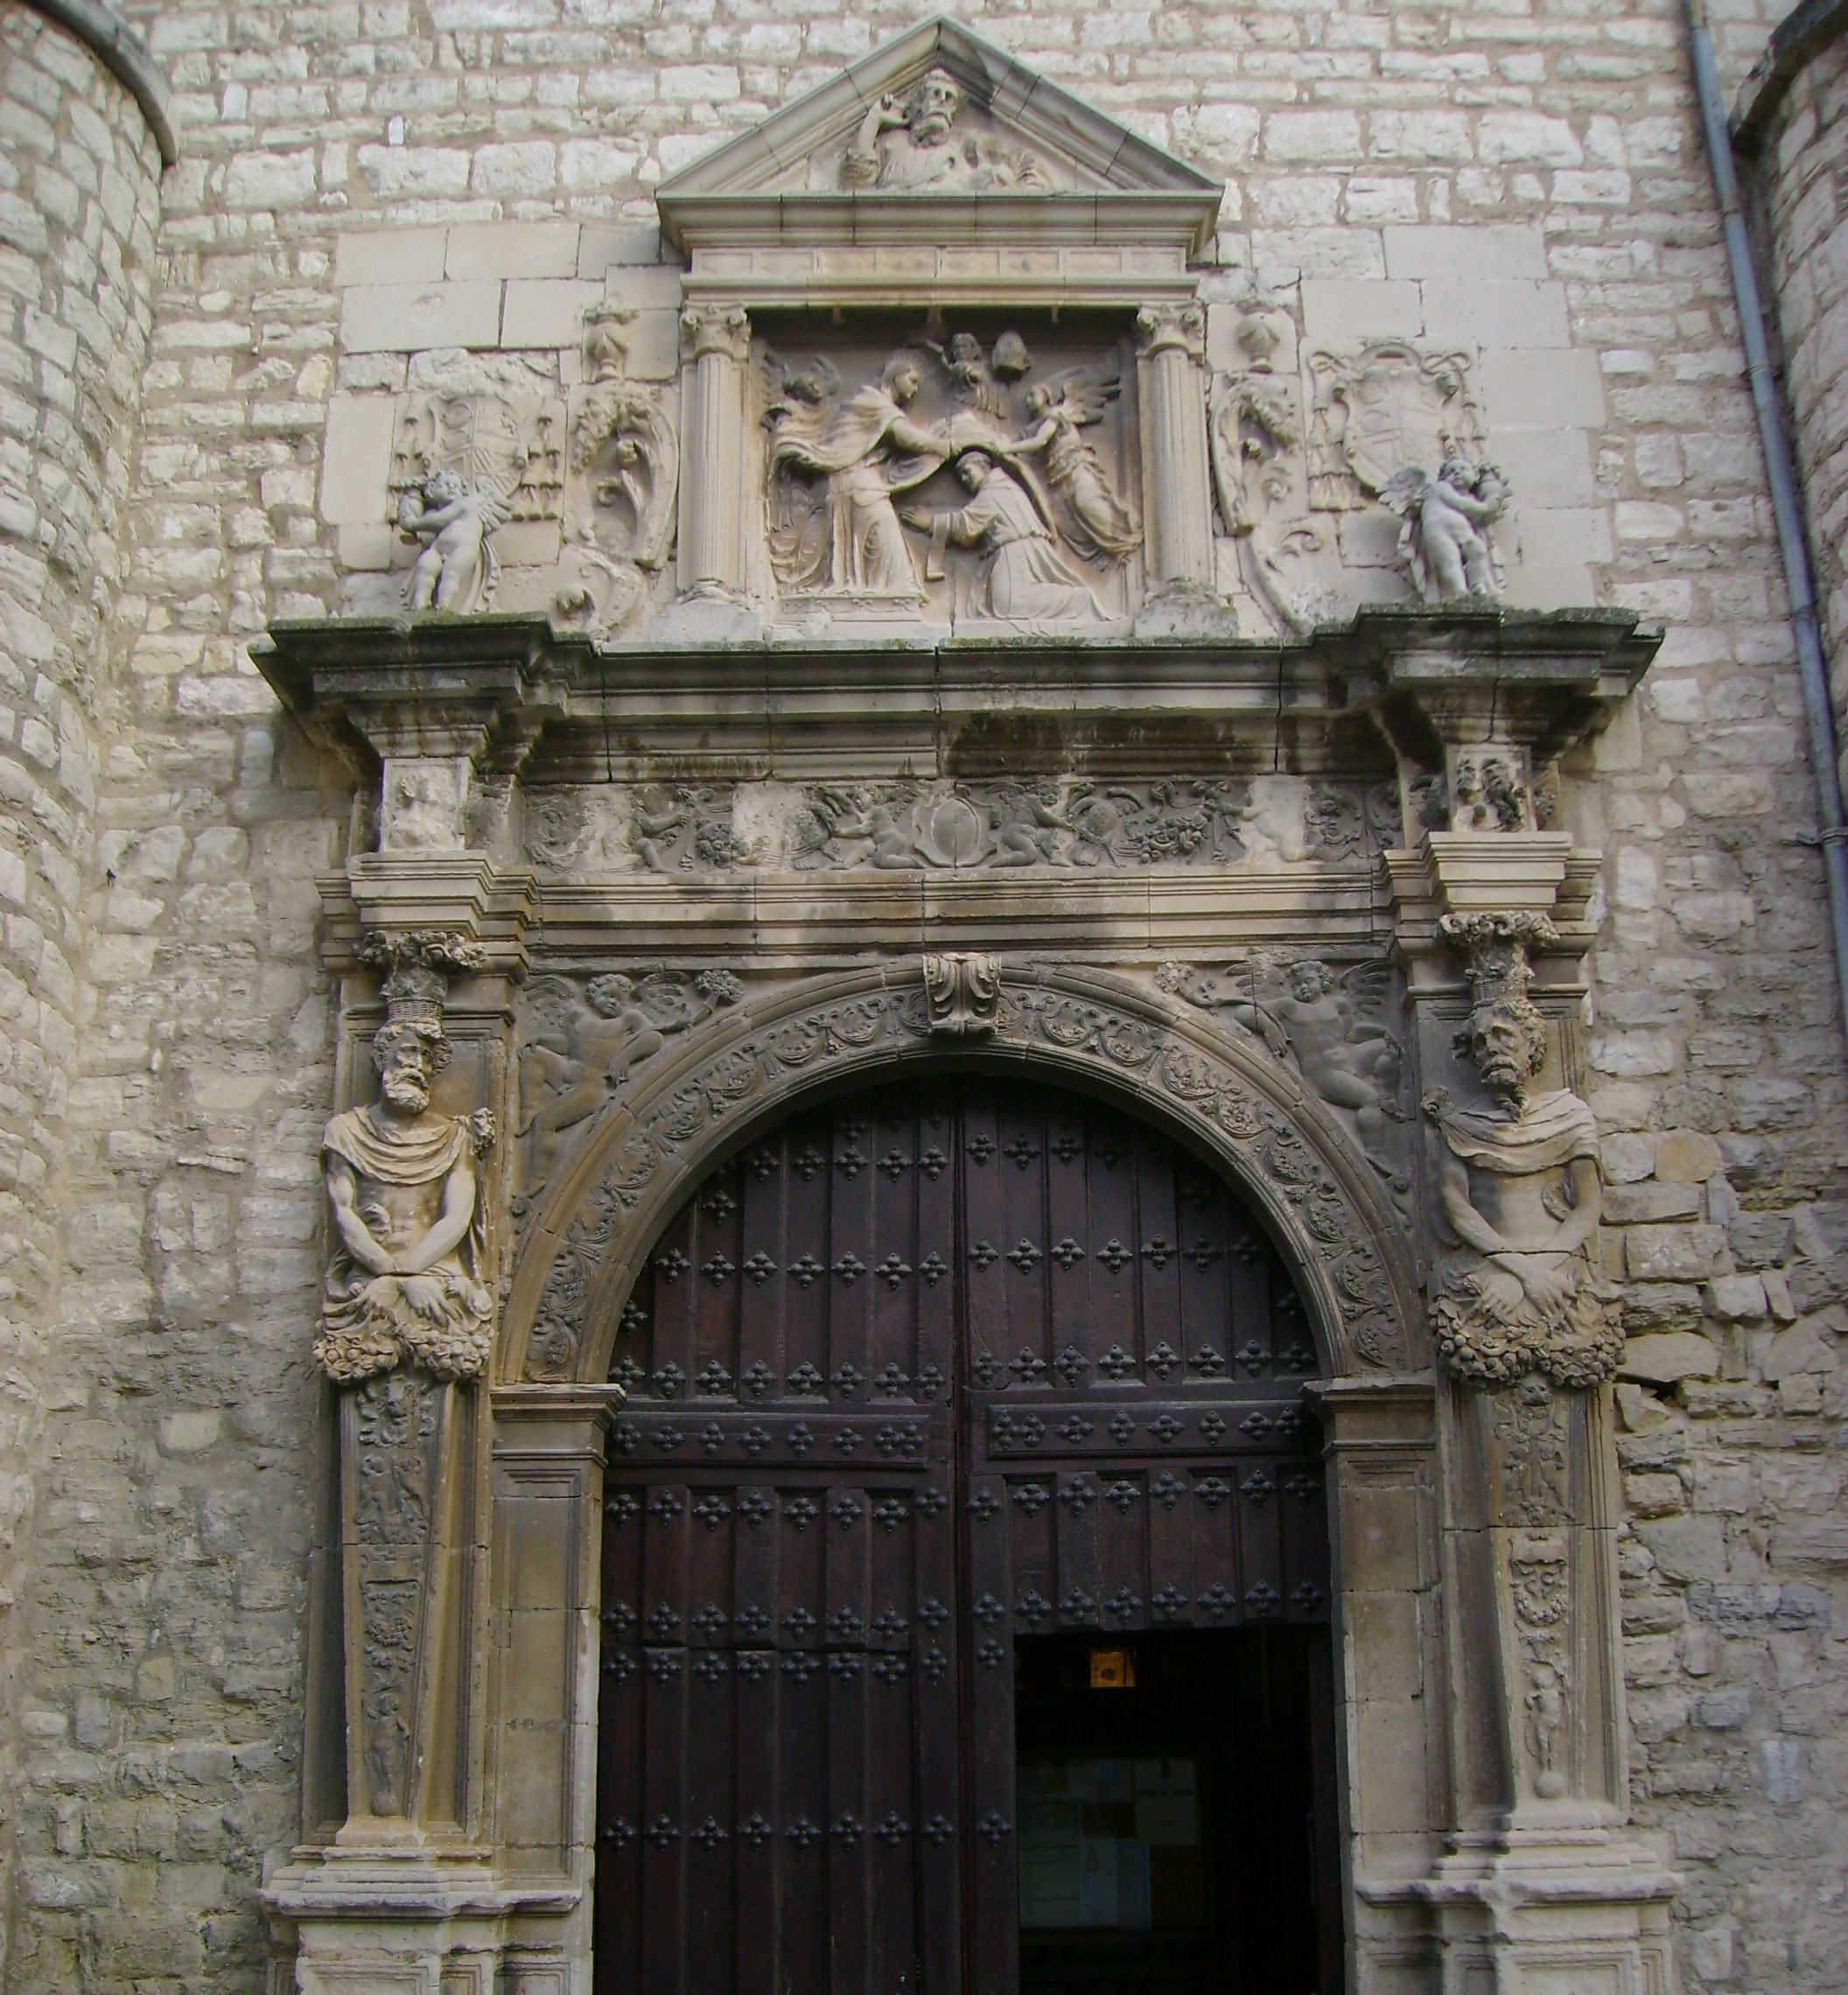arco-medio-punto: (562, 1006, 1377, 1507)
fronton: (638, 5, 1259, 247)
